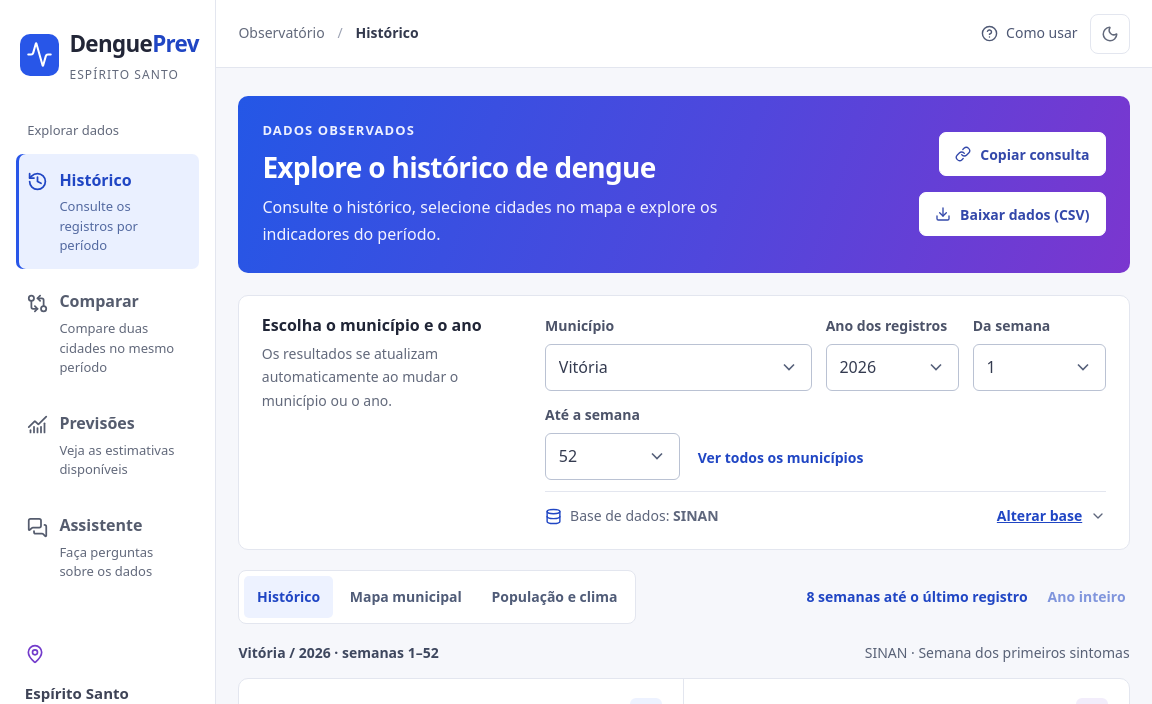
exploração do dashboard sem serviços externos › abre o contexto municipal com zero de chuva preservado e permite ajustar o sensor
Click the button "População e clima": (554, 597) [479,576,630,618]
(page scrolled)
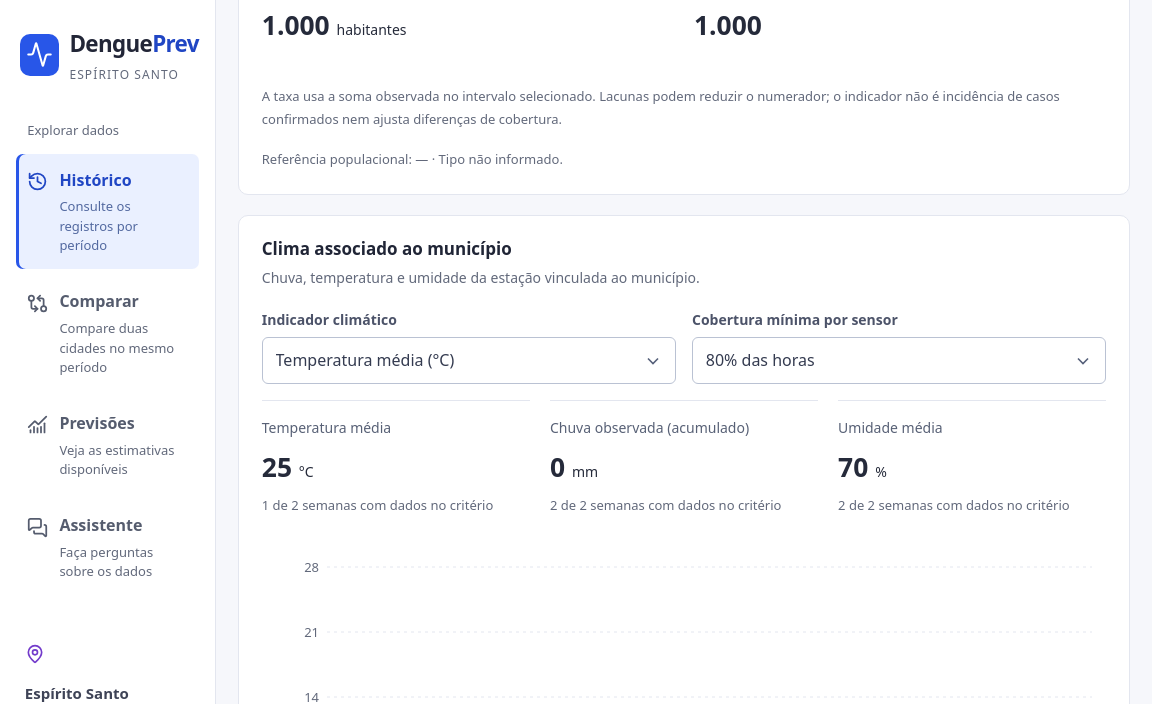
Now the heading "Clima associado ao município" is shown, box [262,237,512,260]
Now the dropdown labelled "Cobertura mínima por sensor" shows "80% das horas", box [692,337,1106,384]
Now the text "1 de 2 semanas com dados no critério" is shown, box [262,495,530,515]
Select "Chuva observada (mm)" in the dropdown labelled "Indicador climático": (469, 361) [262,337,676,384]
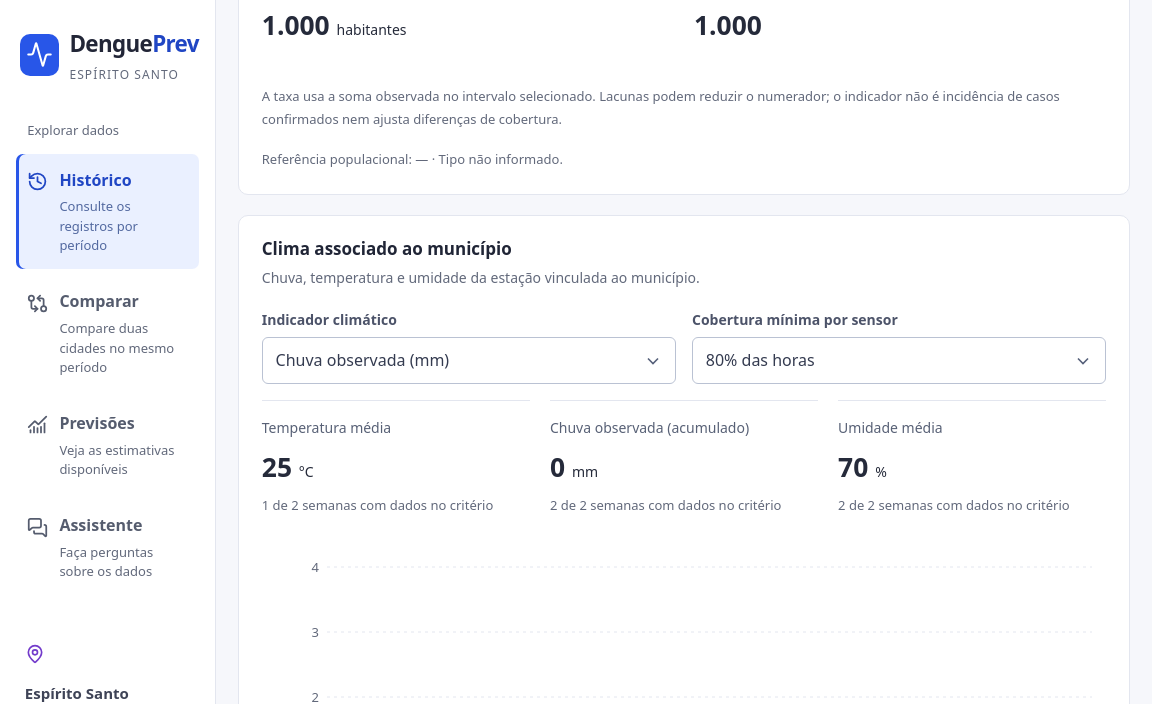
Select "Sem limiar mínimo" in the dropdown labelled "Cobertura mínima por sensor": (899, 361) [692,337,1106,384]
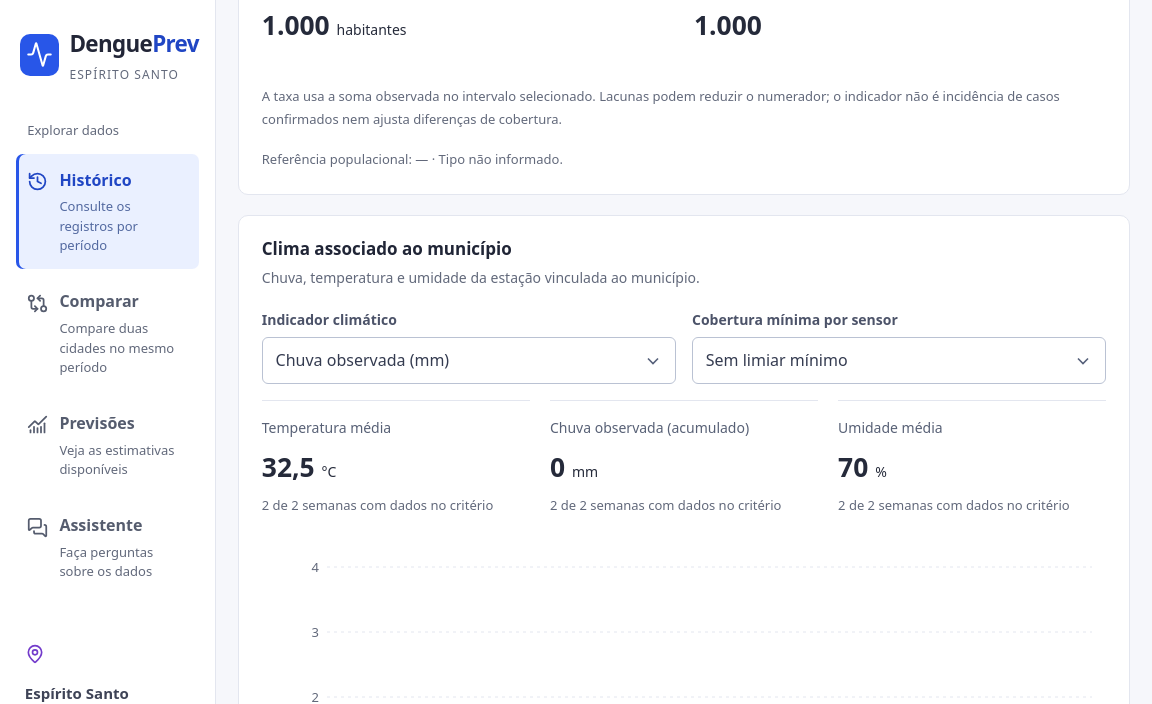
Now the text "2 de 2 semanas com dados no critério" below "32,5" is shown, box [262,495,530,515]
